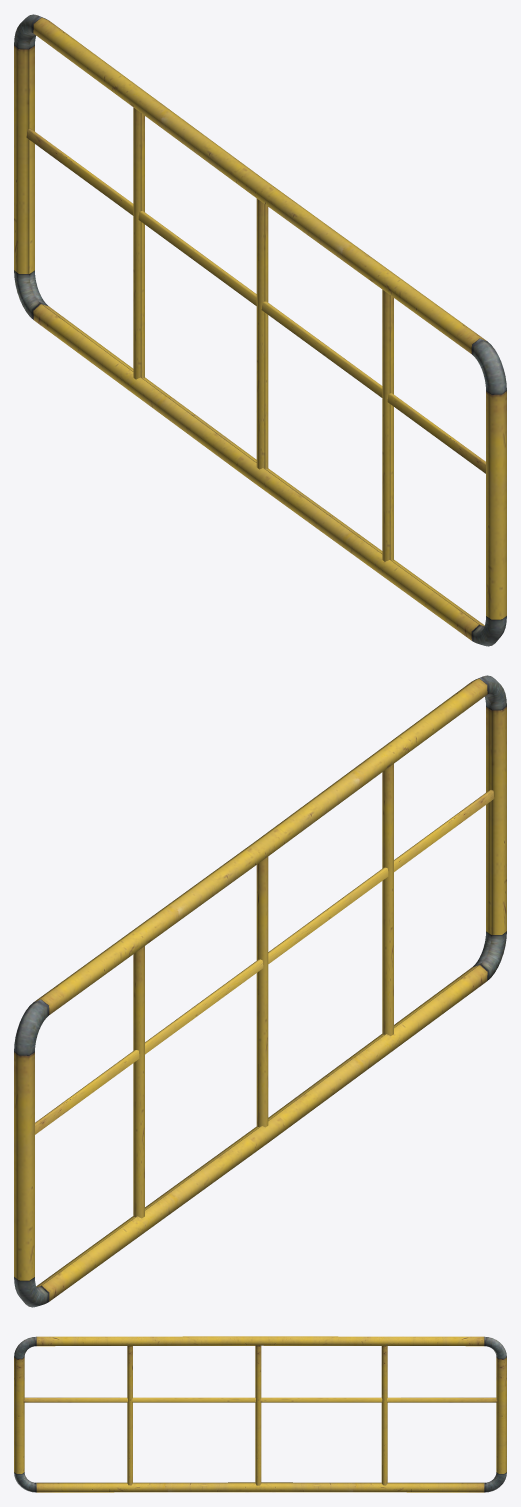
The model's file is Railing_05.fbx.
3 views of the same model, one above another, from view 1: azimuth 30°, elevation 25°; view 2: azimuth 150°, elevation 25°; view 3: azimuth 270°, elevation 25° (orthographic). The views are drawn at different scales.
Visible parts, largest first — view 1: Railing_05; view 2: Railing_05; view 3: Railing_05.
Boxes of the visible parts, x1=… form: Railing_05: x1=14, y1=14, x2=506, y2=646; Railing_05: x1=14, y1=675, x2=506, y2=1307; Railing_05: x1=14, y1=1336, x2=506, y2=1492.
Size of the model in its own units: 5.9 by 97.99 by 281.
Materials: 1 (1 with a texture image).
